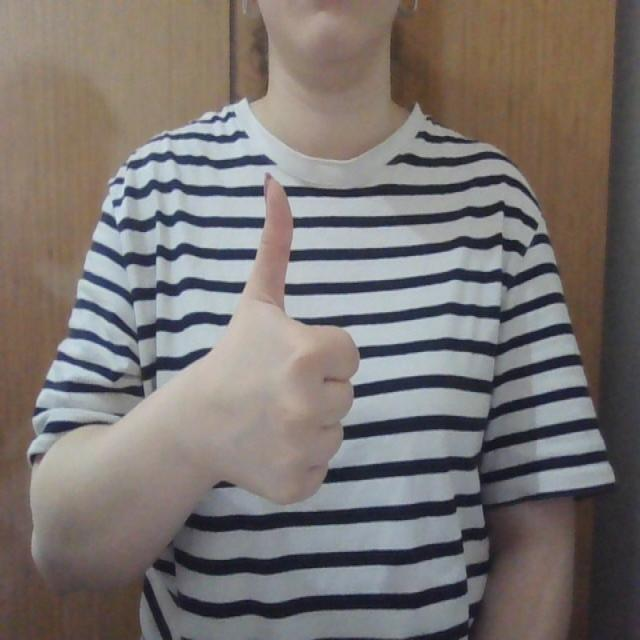Tamam: (190, 164, 368, 511)
